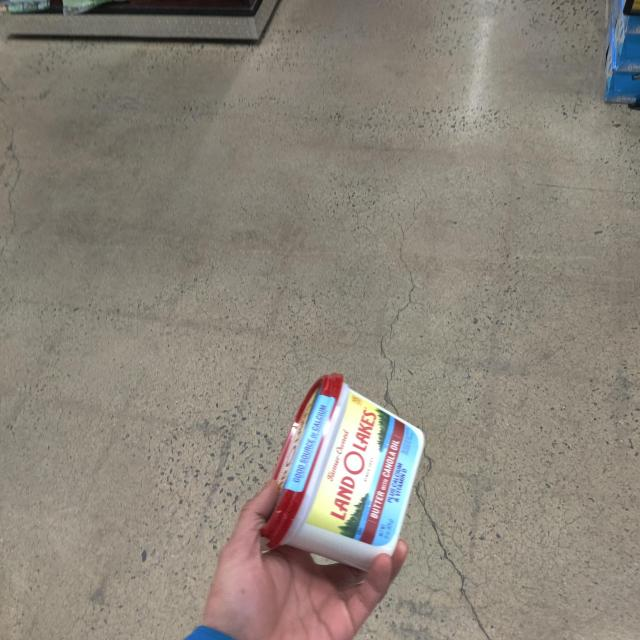Butter: (246, 367, 434, 572)
